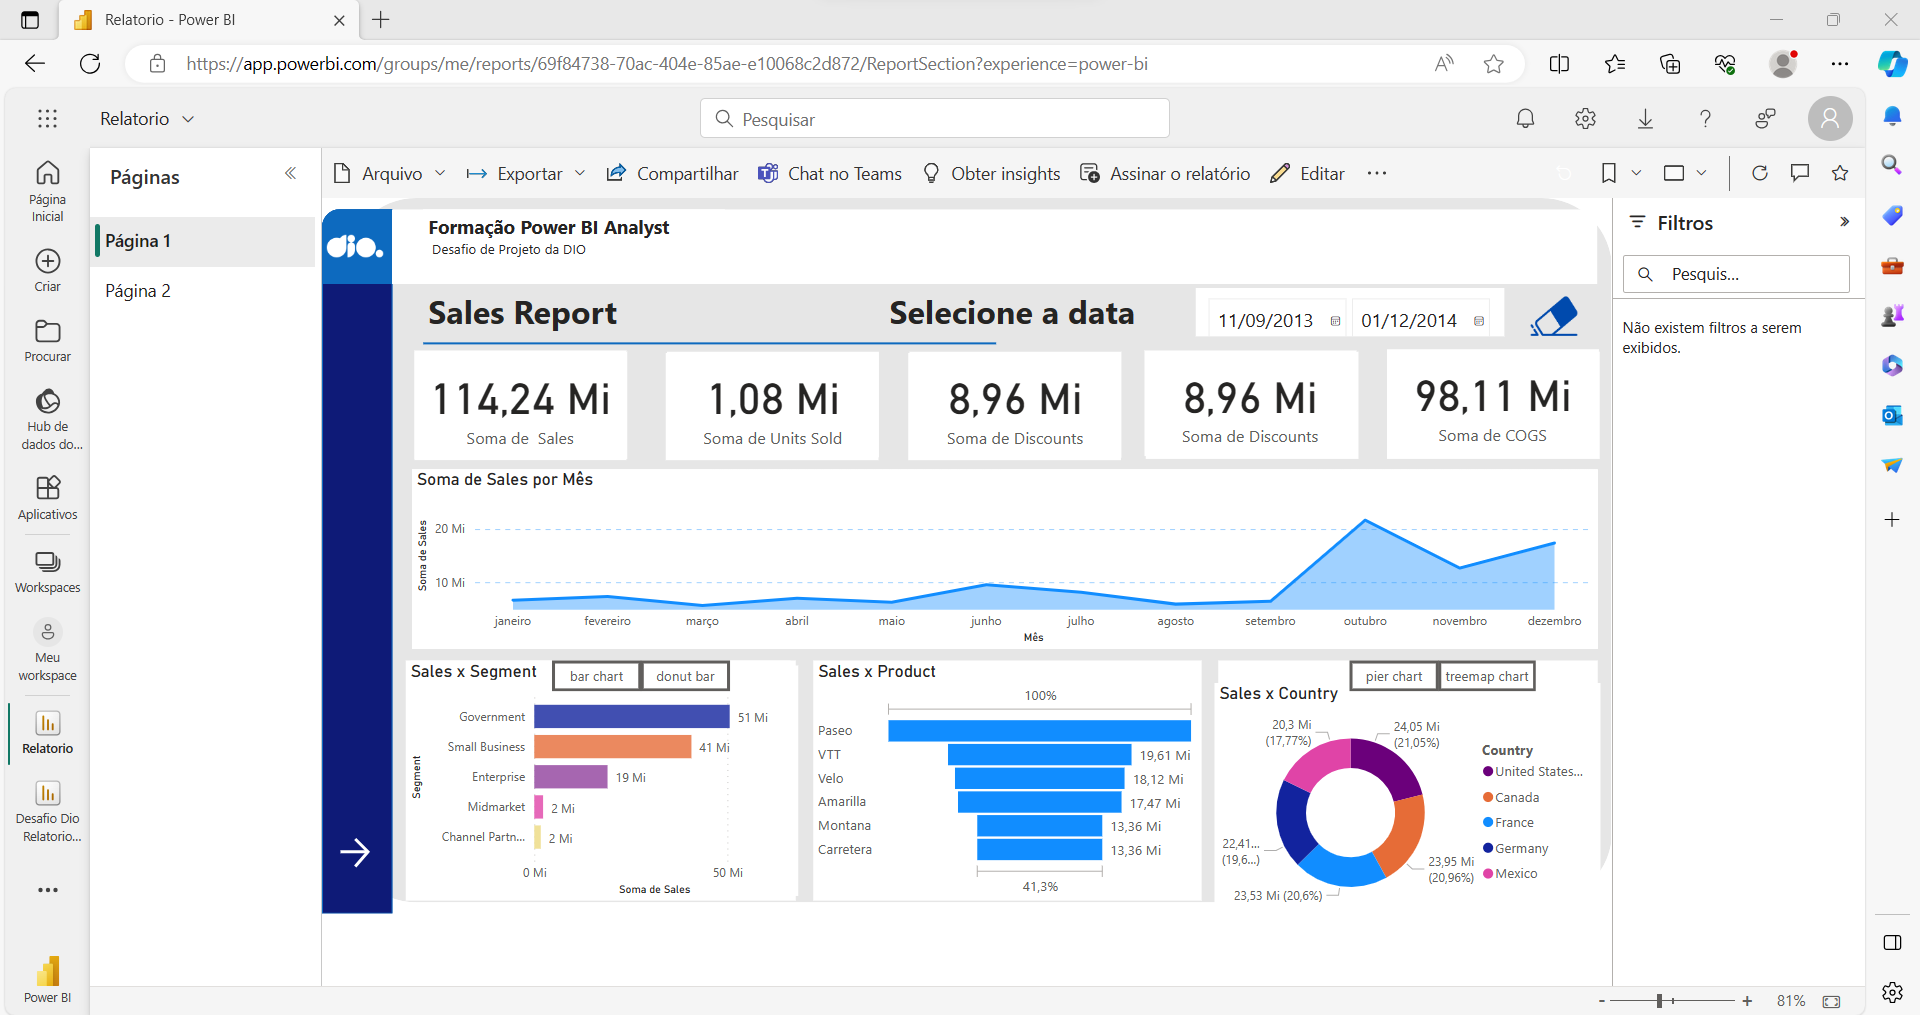

The dashboard page shown, as its layout file describes it:
{"tool":"powerbi","page":{"name":"Página 1","canvas":[1280,720],"ordinal":0},"visuals":[{"type":"shape","box":[23.4,0,1257.2,699.4],"z":0},{"type":"slicer","fields":{"Values":["financials.Date"]},"box":[867,89.3,306.4,48.1],"z":0,"group":"g2"},{"type":"shape","box":[91.7,151.6,211.6,106.6],"z":0,"group":"g1"},{"type":"donutChart","title":" Sales x Segment","fields":{"Category":["financials.Segment"],"Y":["Sum(financials. Sales)"]},"box":[86.5,464,387,228.5],"z":0,"group":"g4"},{"type":"shape","box":[0,11,70.1,699.4],"z":1000},{"type":"textbox","box":[513.9,85.2,325.6,56.3],"z":1000,"group":"g2"},{"type":"shape","box":[341.8,153,211.6,106.6],"z":1000,"group":"g1"},{"type":"clusteredBarChart","title":" Sales x Segment ","fields":{"Category":["financials.Segment"],"Y":["Sum(financials. Sales)"]},"box":[83.5,458.6,387,238.7],"z":1000,"group":"g4"},{"type":"donutChart","title":" Sales x Country ","fields":{"Category":["financials.Country"],"Y":["Sum(financials. Sales)"]},"box":[886.4,481.3,383.6,238.7],"z":1000,"group":"g3"},{"type":"image","box":[1173.4,89.3,100.3,56.3],"z":1500,"group":"g2"},{"type":"actionButton","title":"Botão pie","box":[1019.5,458.6,88.7,30.7],"z":1500,"group":"g3"},{"type":"shape","box":[0,11,70.1,74.2],"z":2000},{"type":"shape","box":[582.2,153,211.6,106.6],"z":2000,"group":"g1"},{"type":"actionButton","title":" Botão donut","box":[317.1,458.6,88.7,30.7],"z":2000,"group":"g4"},{"type":"actionButton","title":"Botão treemap","box":[1108.1,458.6,97.2,30.7],"z":2000,"group":"g3"},{"type":"image","box":[0,28.9,66,38.5],"z":3000},{"type":"shape","box":[817.2,151.6,211.6,106.6],"z":3000,"group":"g1"},{"type":"actionButton","title":"Botão bar","box":[228.4,458.6,88.7,30.7],"z":3000,"group":"g4"},{"type":"shape","box":[70.1,11,1196.7,74.2],"z":4000},{"type":"card","fields":{"Values":["Sum(financials. Sales)"]},"box":[92.1,150.9,210.3,108.8],"z":4000,"group":"g1"},{"type":"textbox","box":[100.3,11,299.5,56.3],"z":5000},{"type":"shape","box":[1057.6,151.6,211.6,106.6],"z":5000,"group":"g1"},{"type":"textbox","box":[100.3,85.2,200.6,56.3],"z":6000},{"type":"shape","box":[100.3,134.7,568.8,20.6],"z":7000},{"type":"shape","box":[89.3,269.3,1177.5,178.6],"z":8000},{"type":"shape","box":[88.7,458.6,376.8,228.5],"z":9000},{"type":"shape","box":[889.9,458.6,376.8,228.5],"z":10000},{"type":"group","id":"g1","title":"Cartões","box":[91.7,150.9,1177.5,108.8],"z":11000},{"type":"areaChart","fields":{"Category":["financials.Date.Variation.Hierarquia de datas.Mês"],"Y":["Sum(financials. Sales)"]},"box":[89.2,268.9,1177.2,178.5],"z":12000},{"type":"card","fields":{"Values":["Sum(financials.Units Sold)"]},"box":[342.3,152.8,210.3,105.1],"z":13000},{"type":"card","fields":{"Values":["Sum(financials.Discounts)"]},"box":[583.1,152.8,210.3,105.1],"z":14000},{"type":"card","fields":{"Values":["Sum(financials.Discounts)"]},"box":[816.6,151.6,210.3,105.1],"z":15000},{"type":"card","fields":{"Values":["Sum(financials.COGS)"]},"box":[1057.4,150.4,210.3,105.1],"z":16000},{"type":"group","id":"g2","title":"Filtro por data","box":[513.9,85.2,759.8,60.5],"z":18000},{"type":"group","id":"g3","title":"Sales x Country","box":[884.8,458.6,385.2,261.4],"z":19000},{"type":"funnel","title":" Sales x Product ","fields":{"Category":["financials.Product"],"Y":["Sum(financials. Sales)"]},"box":[487.6,458.6,385.3,238.7],"z":20000},{"type":"group","id":"g4","title":"Sales X Segment","box":[83.5,458.6,390,238.7],"z":21000},{"type":"actionButton","box":[11.9,630.8,54.6,39.2],"z":22000}]}

Visuals, with their boxes on the page's 1280x720 design canvas (x1, y1, x2, y2). These are canvas units, not pixel positions in the 1920x1015 screenshot, which may show the page scaled, cropped or inside an application window:
shape: <box>23,0,1281,699</box>
slicer - financials.Date: <box>867,89,1173,137</box>
shape: <box>92,152,303,258</box>
" Sales x Segment" donutChart: <box>86,464,474,692</box>
shape: <box>0,11,70,710</box>
textbox: <box>514,85,840,142</box>
shape: <box>342,153,553,260</box>
" Sales x Segment " clusteredBarChart: <box>84,459,470,697</box>
" Sales x Country " donutChart: <box>886,481,1270,720</box>
image: <box>1173,89,1274,146</box>
"Botão pie" actionButton: <box>1020,459,1108,489</box>
shape: <box>0,11,70,85</box>
shape: <box>582,153,794,260</box>
" Botão donut" actionButton: <box>317,459,406,489</box>
"Botão treemap" actionButton: <box>1108,459,1205,489</box>
image: <box>0,29,66,67</box>
shape: <box>817,152,1029,258</box>
"Botão bar" actionButton: <box>228,459,317,489</box>
shape: <box>70,11,1267,85</box>
card - Sum(financials. Sales): <box>92,151,302,260</box>
textbox: <box>100,11,400,67</box>
shape: <box>1058,152,1269,258</box>
textbox: <box>100,85,301,142</box>
shape: <box>100,135,669,155</box>
shape: <box>89,269,1267,448</box>
shape: <box>89,459,466,687</box>
shape: <box>890,459,1267,687</box>
"Cartões" group: <box>92,151,1269,260</box>
areaChart - financials.Date.Variation.Hierarquia de datas.Mês x Sum(financials. Sales): <box>89,269,1266,447</box>
card - Sum(financials.Units Sold): <box>342,153,553,258</box>
card - Sum(financials.Discounts): <box>583,153,793,258</box>
card - Sum(financials.Discounts): <box>817,152,1027,257</box>
card - Sum(financials.COGS): <box>1057,150,1268,256</box>
"Filtro por data" group: <box>514,85,1274,146</box>
"Sales x Country" group: <box>885,459,1270,720</box>
" Sales x Product " funnel: <box>488,459,873,697</box>
"Sales X Segment" group: <box>84,459,474,697</box>
actionButton: <box>12,631,66,670</box>
